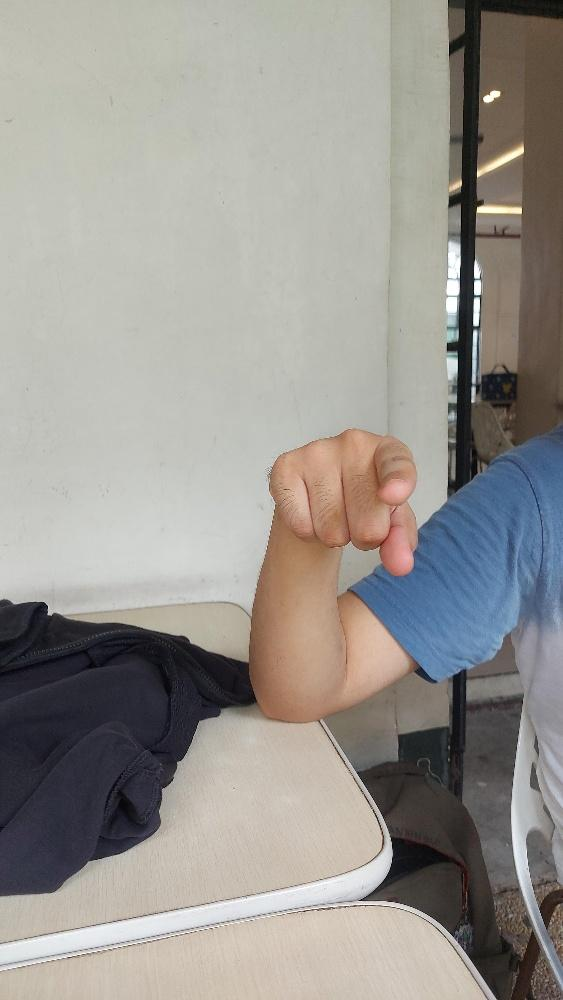z: (268, 427, 417, 575)
